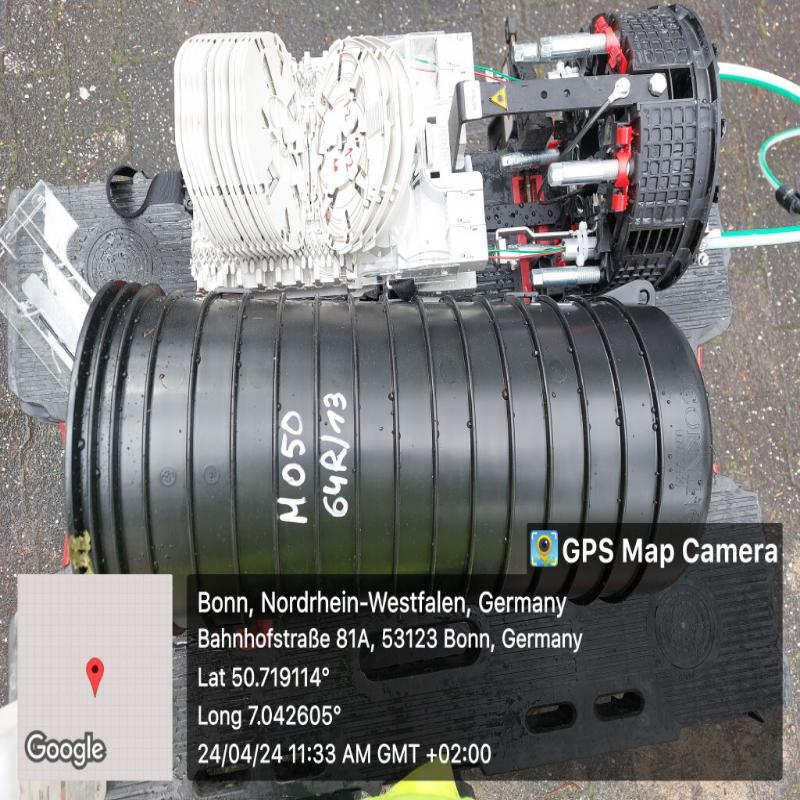NT-Muffen: (61, 267, 721, 616), (142, 3, 731, 302)
